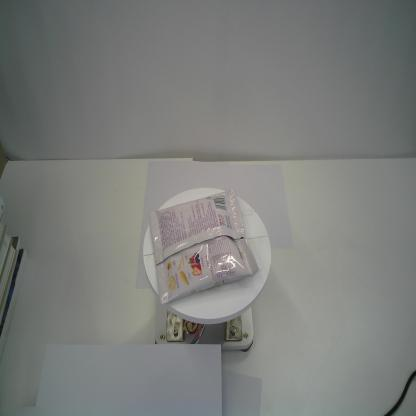Instant Drink: (149, 188, 259, 306)
